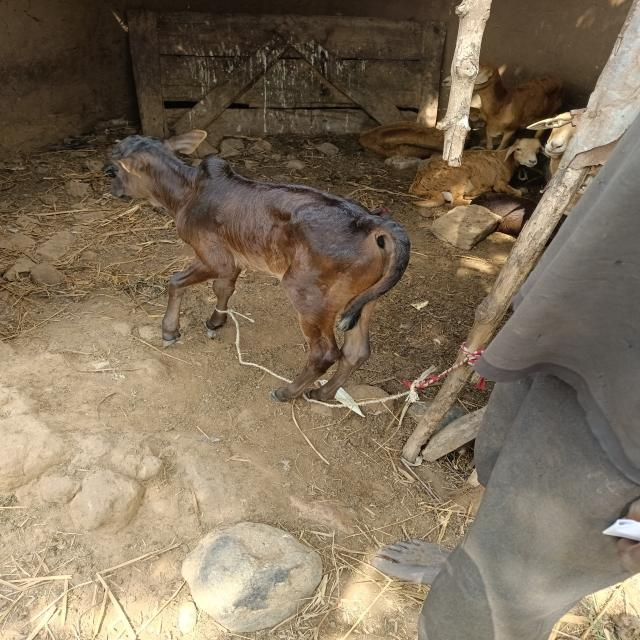goat: (73, 92, 444, 434)
